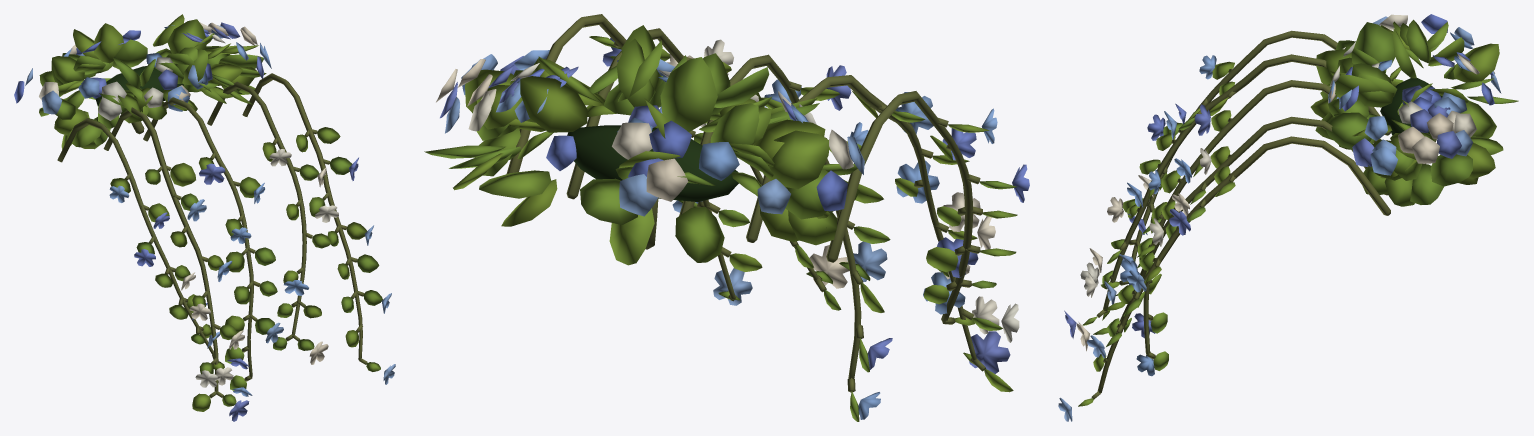
File: box_lobelia.glb
The picture shows the model from 3 angles, left to right: view 1: azimuth 30°, elevation 25°; view 2: azimuth 150°, elevation 25°; view 3: azimuth 270°, elevation 25°; orthographic projection. The views are drawn at different scales.
Parts seen in each view (by area): view 1: Sammel Pflanze, Sammel Putz, Sammel Blatt; view 2: Sammel Pflanze, Sammel Putz, Sammel Blatt; view 3: Sammel Pflanze, Sammel Putz, Sammel Blatt.
Boxes of the visible parts, x1,y1,x2,y2 form: Sammel Pflanze: (14, 14, 395, 421); Sammel Putz: (57, 73, 367, 398); Sammel Blatt: (95, 66, 183, 106); Sammel Pflanze: (424, 25, 1029, 421); Sammel Putz: (506, 14, 985, 392); Sammel Blatt: (567, 125, 738, 201); Sammel Pflanze: (1058, 14, 1518, 421); Sammel Putz: (1091, 30, 1436, 399); Sammel Blatt: (1380, 78, 1442, 135).
Size of the model in its own units: 0.2838 by 0.3232 by 0.3977.
